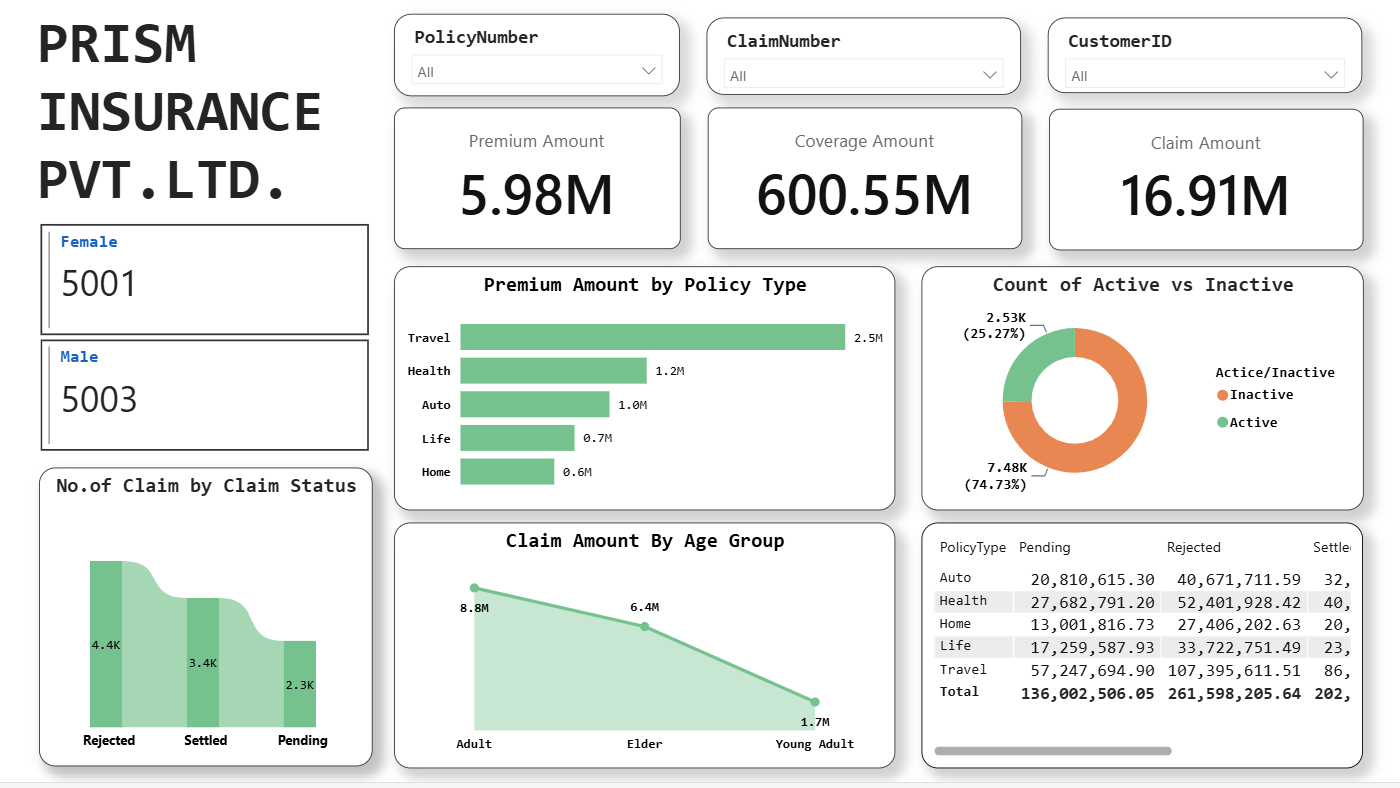

The dashboard page shown, as its layout file describes it:
{"tool":"powerbi","page":{"name":"Dashboard","canvas":[1280,720],"ordinal":0},"visuals":[{"type":"slicer","fields":{"Values":["InsuranceData.PolicyNumber"]},"box":[350,13.1,263.1,76.2],"z":0},{"type":"slicer","fields":{"Values":["InsuranceData.ClaimNumber"]},"box":[638.1,15.8,289.5,71.4],"z":1000},{"type":"slicer","fields":{"Values":["InsuranceData.CustomerID"]},"box":[952.3,16.5,289.5,70],"z":2000},{"type":"textbox","box":[15.7,3.6,300.4,226.8],"z":3000},{"type":"cardVisual","fields":{"Data":["Sum(InsuranceData.PremiumAmount)"]},"box":[350,98.8,263.8,130],"z":4000},{"type":"cardVisual","fields":{"Data":["Sum(InsuranceData.CoverageAmount)"]},"box":[638.6,98.9,289.5,130.4],"z":5000},{"type":"cardVisual","fields":{"Data":["Sum(InsuranceData.ClaimAmount)"]},"box":[952.9,99.6,289.5,130.4],"z":6000},{"type":"multiRowCard","fields":{"Values":["InsuranceData.Gender","CountNonNull(InsuranceData.Gender)"]},"box":[19.3,201.5,312.5,229.2],"z":7000},{"type":"ribbonChart","title":"No.of Claim by Claim Status ","fields":{"Category":["InsuranceData.ClaimStatus"],"Y":["CountNonNull(InsuranceData.ClaimNumber)"]},"box":[22.6,431,307.1,275],"z":8000},{"type":"barChart","title":"Premium Amount by Policy Type","fields":{"Category":["InsuranceData.PolicyType"],"Y":["Sum(InsuranceData.PremiumAmount)"]},"box":[350,245,461.2,225],"z":9000},{"type":"lineChart","title":"Claim Amount By Age Group","fields":{"Category":["InsuranceData.Age Group"],"Y":["Sum(InsuranceData.ClaimAmount)"]},"box":[350,481.2,461.2,226.2],"z":10000},{"type":"donutChart","title":"Count of Active vs Inactive","fields":{"Category":["InsuranceData.Actice/Inactive"],"Y":["CountNonNull(InsuranceData.Actice/Inactive)"]},"box":[835.7,245.2,407.1,225],"z":11000},{"type":"pivotTable","fields":{"Values":["Sum(InsuranceData.CoverageAmount)"],"Rows":["InsuranceData.PolicyType"],"Columns":["InsuranceData.ClaimStatus"]},"box":[836,481,406,226],"z":12000}]}

Visuals, with their boxes in screenshot pixels (x1, y1, x2, y2), scaled from the page's 1280x720 canvas onto the 1400x788 screenshot:
slicer - InsuranceData.PolicyNumber: rect(383, 14, 671, 98)
slicer - InsuranceData.ClaimNumber: rect(698, 17, 1015, 95)
slicer - InsuranceData.CustomerID: rect(1042, 18, 1358, 95)
textbox: rect(17, 4, 346, 252)
cardVisual - Sum(InsuranceData.PremiumAmount): rect(383, 108, 671, 250)
cardVisual - Sum(InsuranceData.CoverageAmount): rect(698, 108, 1015, 251)
cardVisual - Sum(InsuranceData.ClaimAmount): rect(1042, 109, 1359, 252)
multiRowCard - InsuranceData.Gender x CountNonNull(InsuranceData.Gender): rect(21, 221, 363, 471)
"No.of Claim by Claim Status " ribbonChart: rect(25, 472, 361, 773)
"Premium Amount by Policy Type" barChart: rect(383, 268, 887, 514)
"Claim Amount By Age Group" lineChart: rect(383, 527, 887, 774)
"Count of Active vs Inactive" donutChart: rect(914, 268, 1359, 515)
pivotTable - Sum(InsuranceData.CoverageAmount) x InsuranceData.PolicyType: rect(914, 526, 1358, 774)
